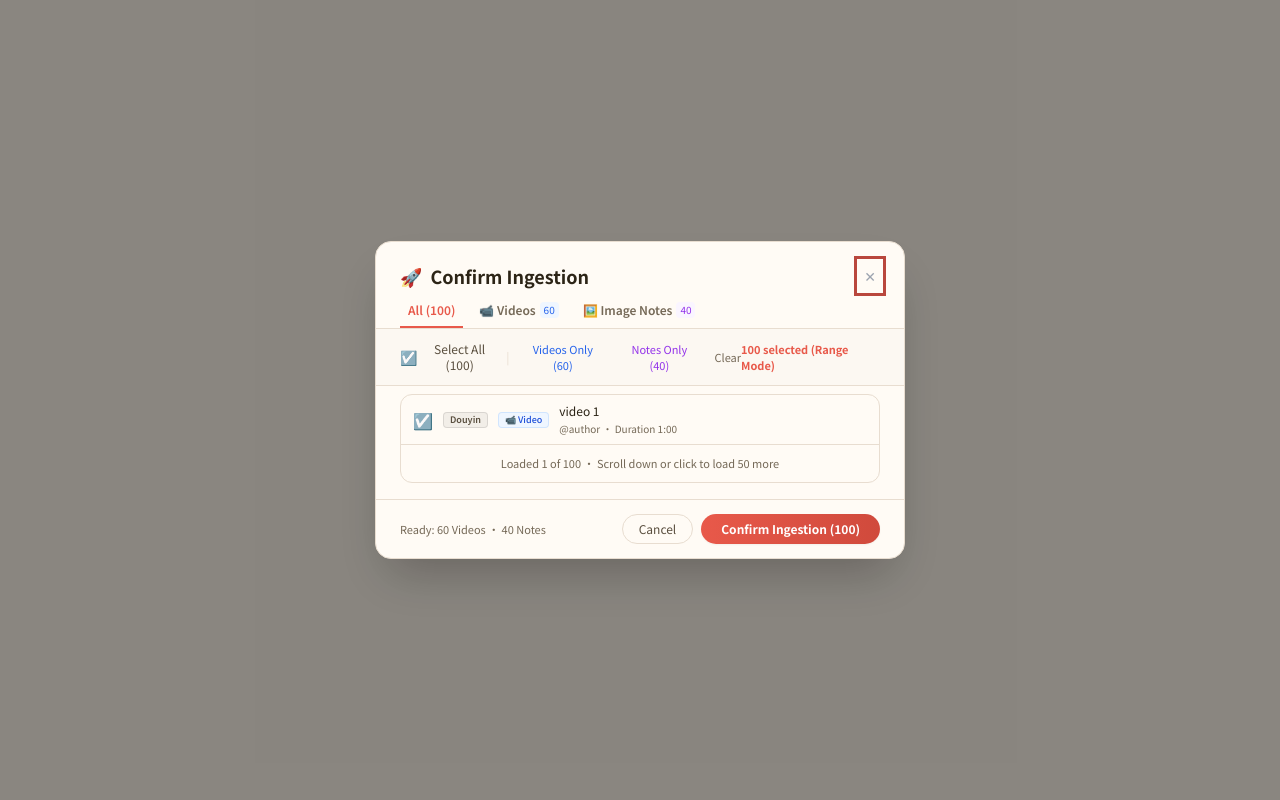
Test: BuildConfirmModal request scope › rejects a late page 2 of the old tab even while the new tab waits for its own page 2
Click the button "Loaded 1 of 100 · Scroll down or click to load 50 more" at (640, 463), box x1=401 y1=444 x2=879 y2=482
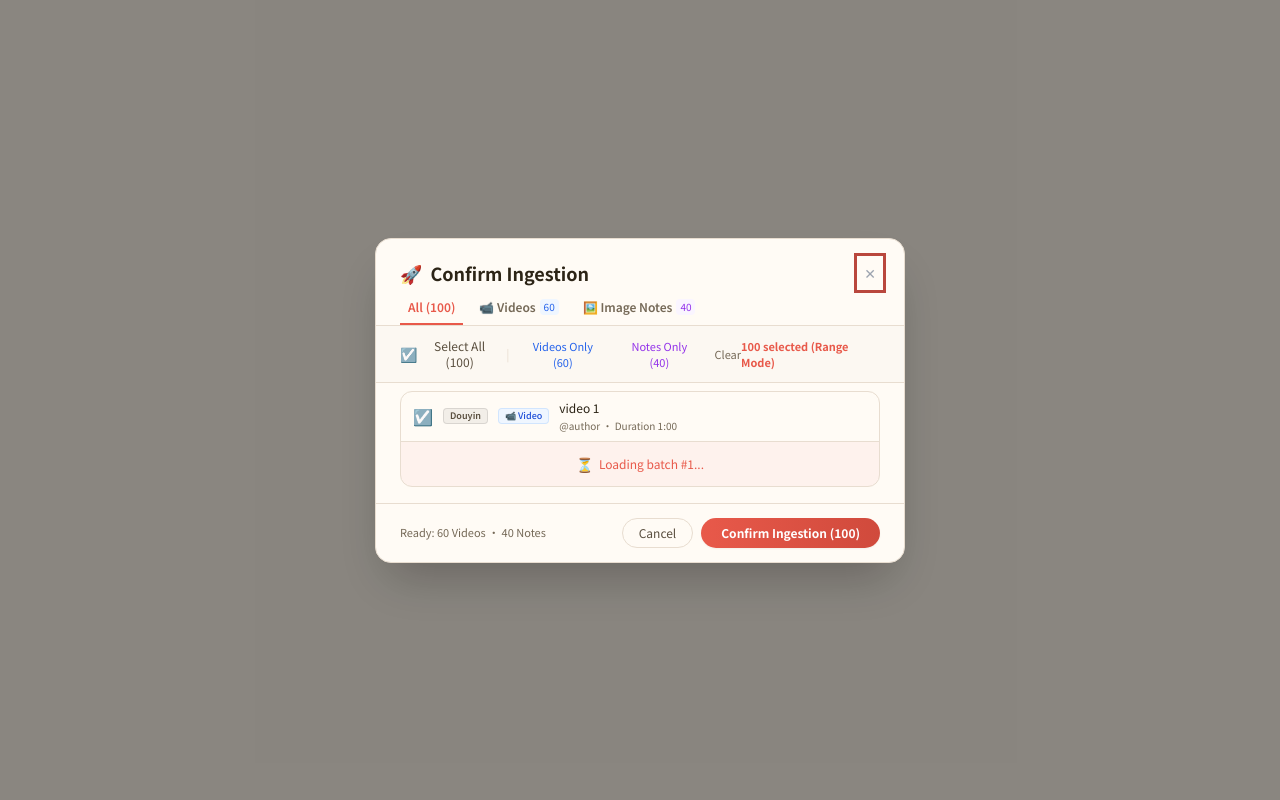
Click the text "📹 Videos" at (507, 306), box x1=479 y1=298 x2=536 y2=314
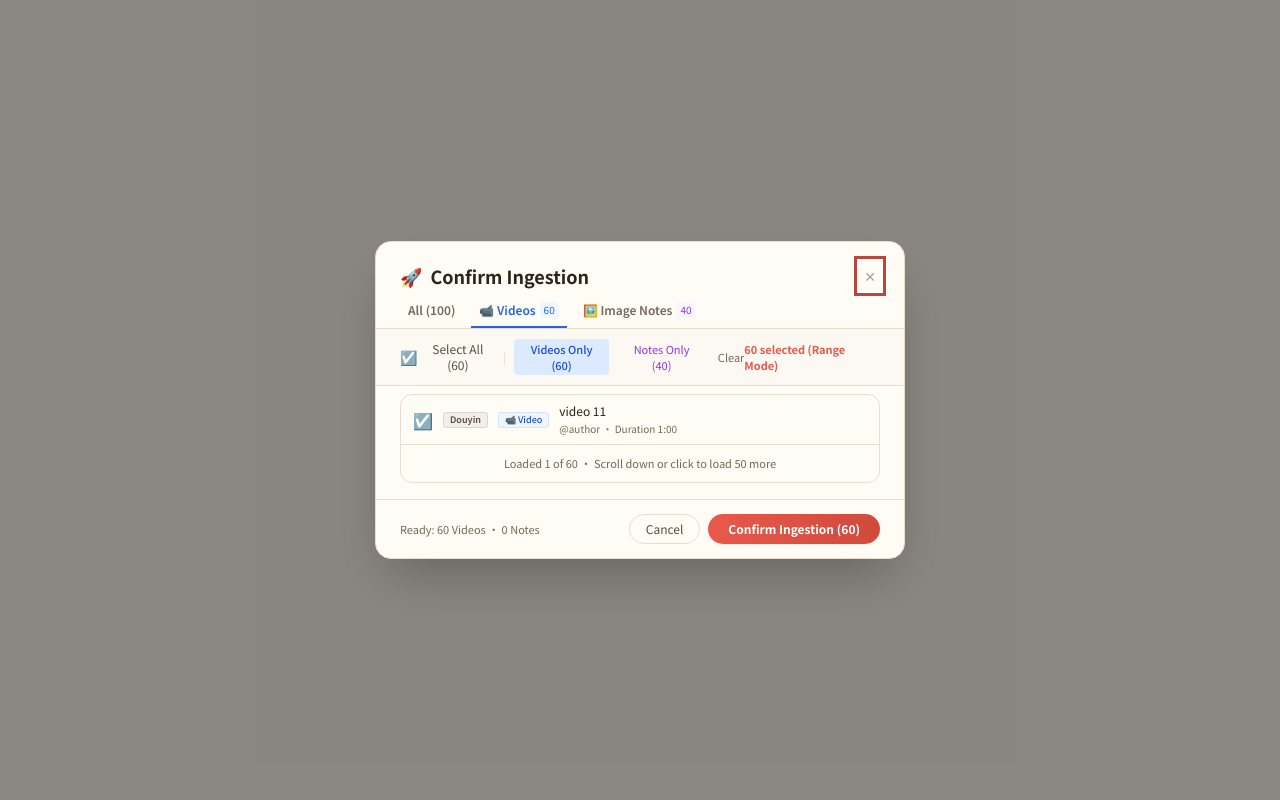
Click the button "Loaded 1 of 60 · Scroll down or click to load 50 more" at (640, 463), box x1=401 y1=444 x2=879 y2=482
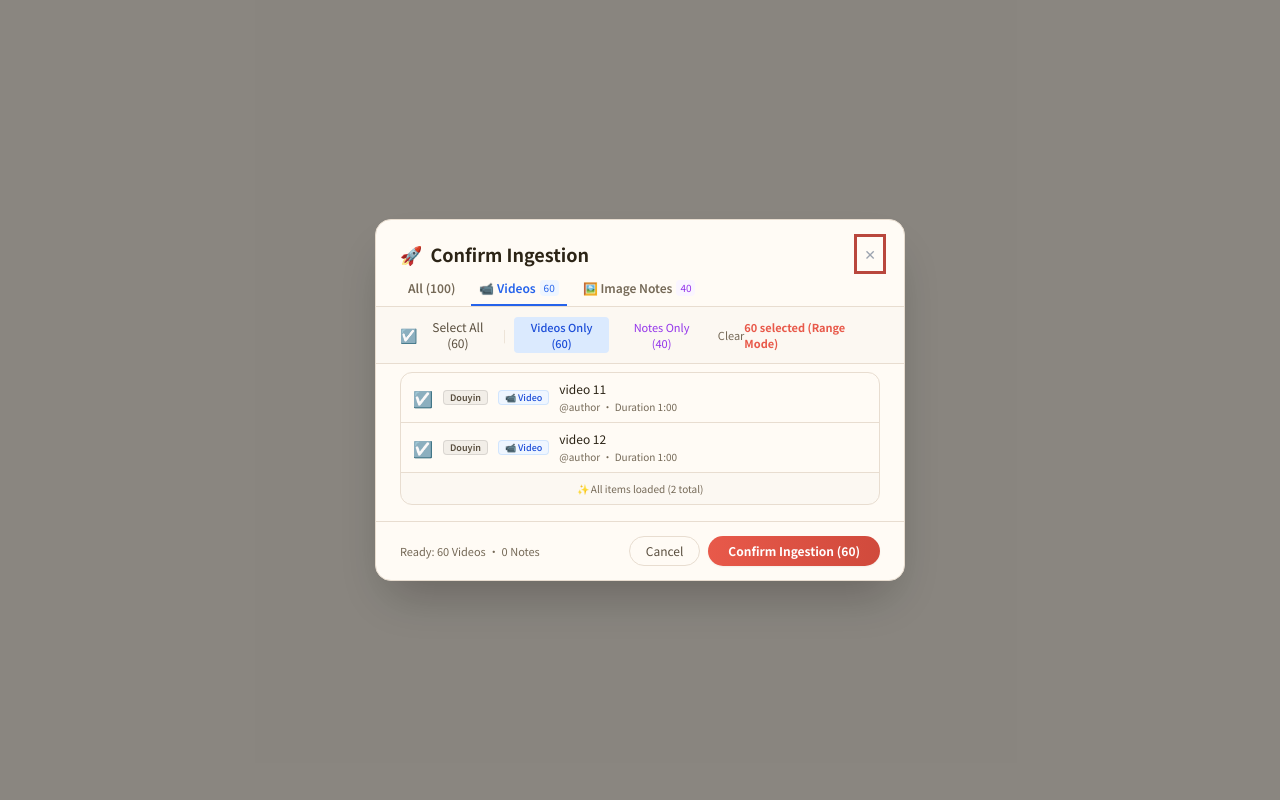
Expected: the text "video 11" is shown, x1=559 y1=380 x2=606 y2=397
Expected: the text "video 12" is shown, x1=559 y1=430 x2=606 y2=447
